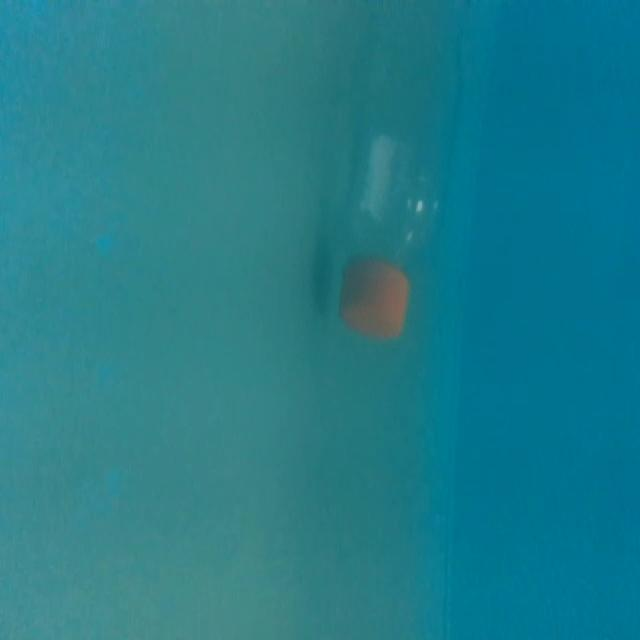plastic bottle: (335, 5, 468, 343)
